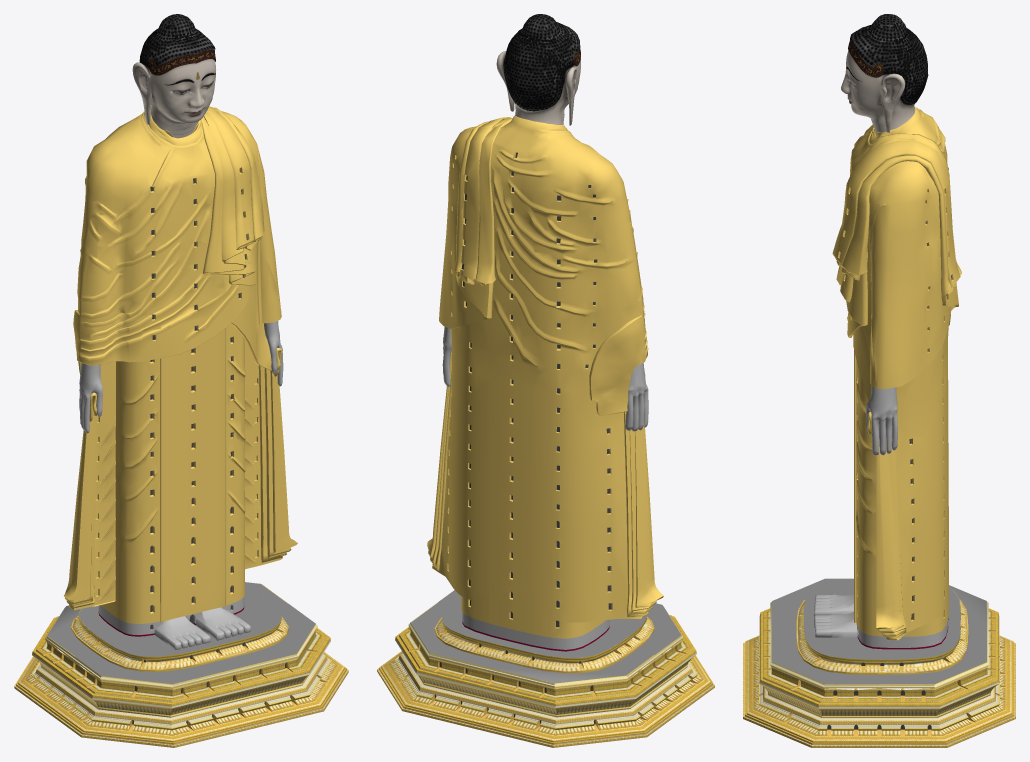
Rendered from Buddha.obj.
3 renders of one model, left to right at view 1: azimuth 30°, elevation 25°; view 2: azimuth 150°, elevation 25°; view 3: azimuth 270°, elevation 25°, orthographic.
Parts seen in each view (by area): view 1: Buddha_Body, Budda_Base, Budda_Head; view 2: Buddha_Body, Budda_Base, Budda_Head; view 3: Buddha_Body, Budda_Base, Budda_Head.
Part boxes in pixels (x1=…): Buddha_Body: x1=64, y1=106, x2=297, y2=649; Budda_Base: x1=14, y1=582, x2=348, y2=747; Budda_Head: x1=132, y1=14, x2=215, y2=138; Buddha_Body: x1=427, y1=115, x2=663, y2=651; Budda_Base: x1=377, y1=590, x2=714, y2=747; Budda_Head: x1=496, y1=14, x2=580, y2=125; Buddha_Body: x1=814, y1=107, x2=961, y2=649; Budda_Base: x1=743, y1=578, x2=1015, y2=747; Budda_Head: x1=841, y1=14, x2=928, y2=133.
Size of the model in its own units: 60.06 by 142 by 52.62.
Materials: 3 (3 with a texture image).
